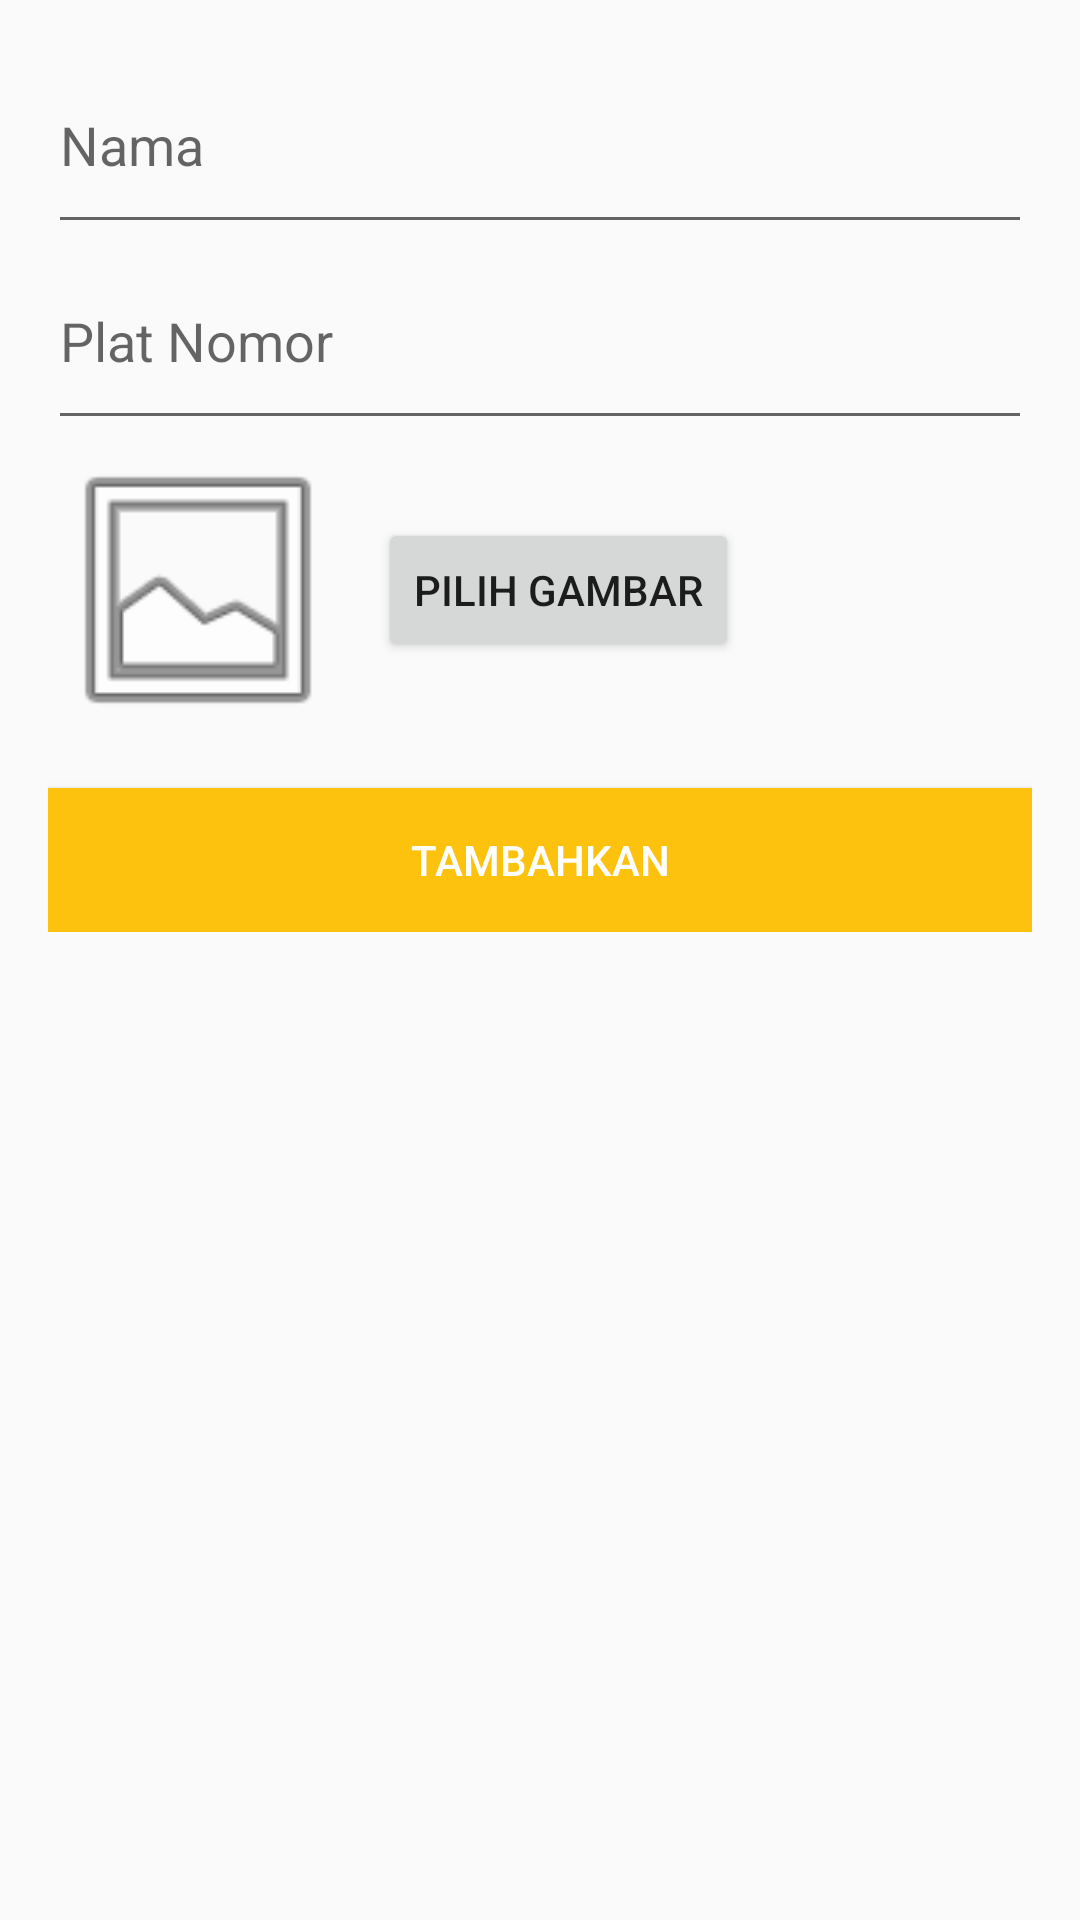

Screen size 1080x1920. Icon name, then its center in pixels as [x,y]:
gallery: [198,590]
